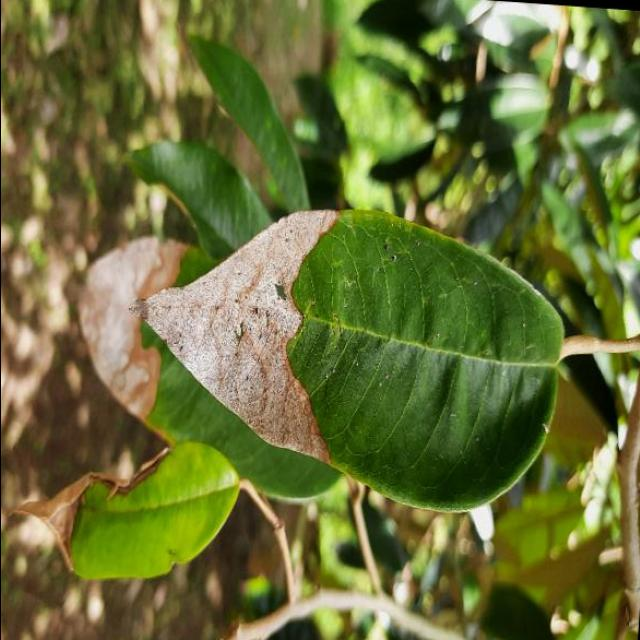Leaf Blight: (52, 180, 580, 524)
